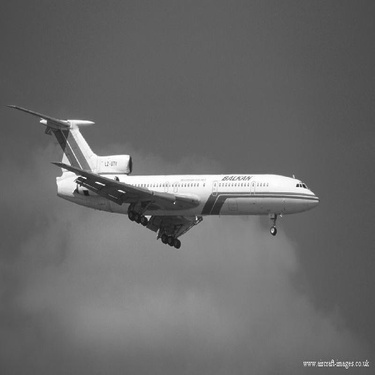airplane: (4, 87, 338, 262)
